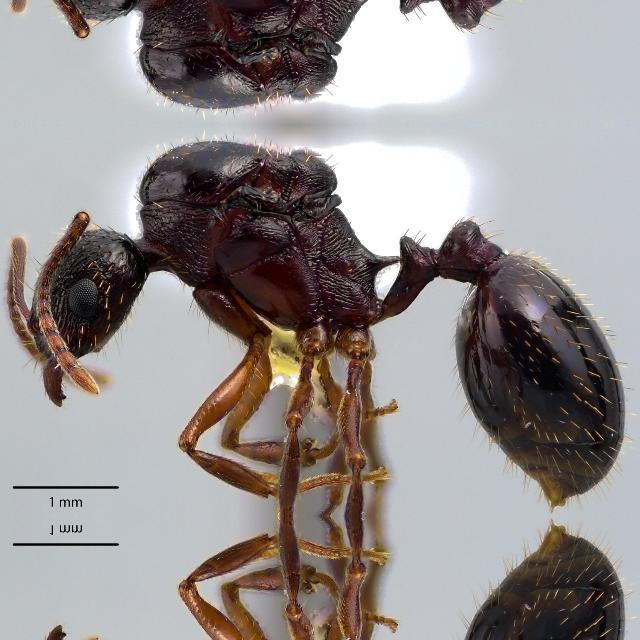Apheanogaster: (3, 131, 631, 515), (3, 516, 631, 640), (3, 0, 631, 116)
